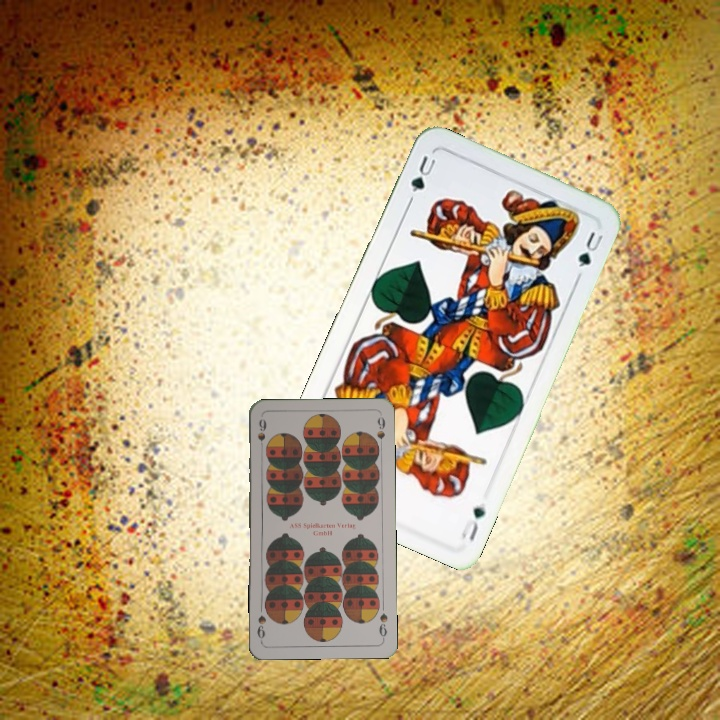GU: (406, 151, 439, 195), (456, 502, 488, 544)
S9: (254, 415, 269, 455), (375, 609, 390, 642)
